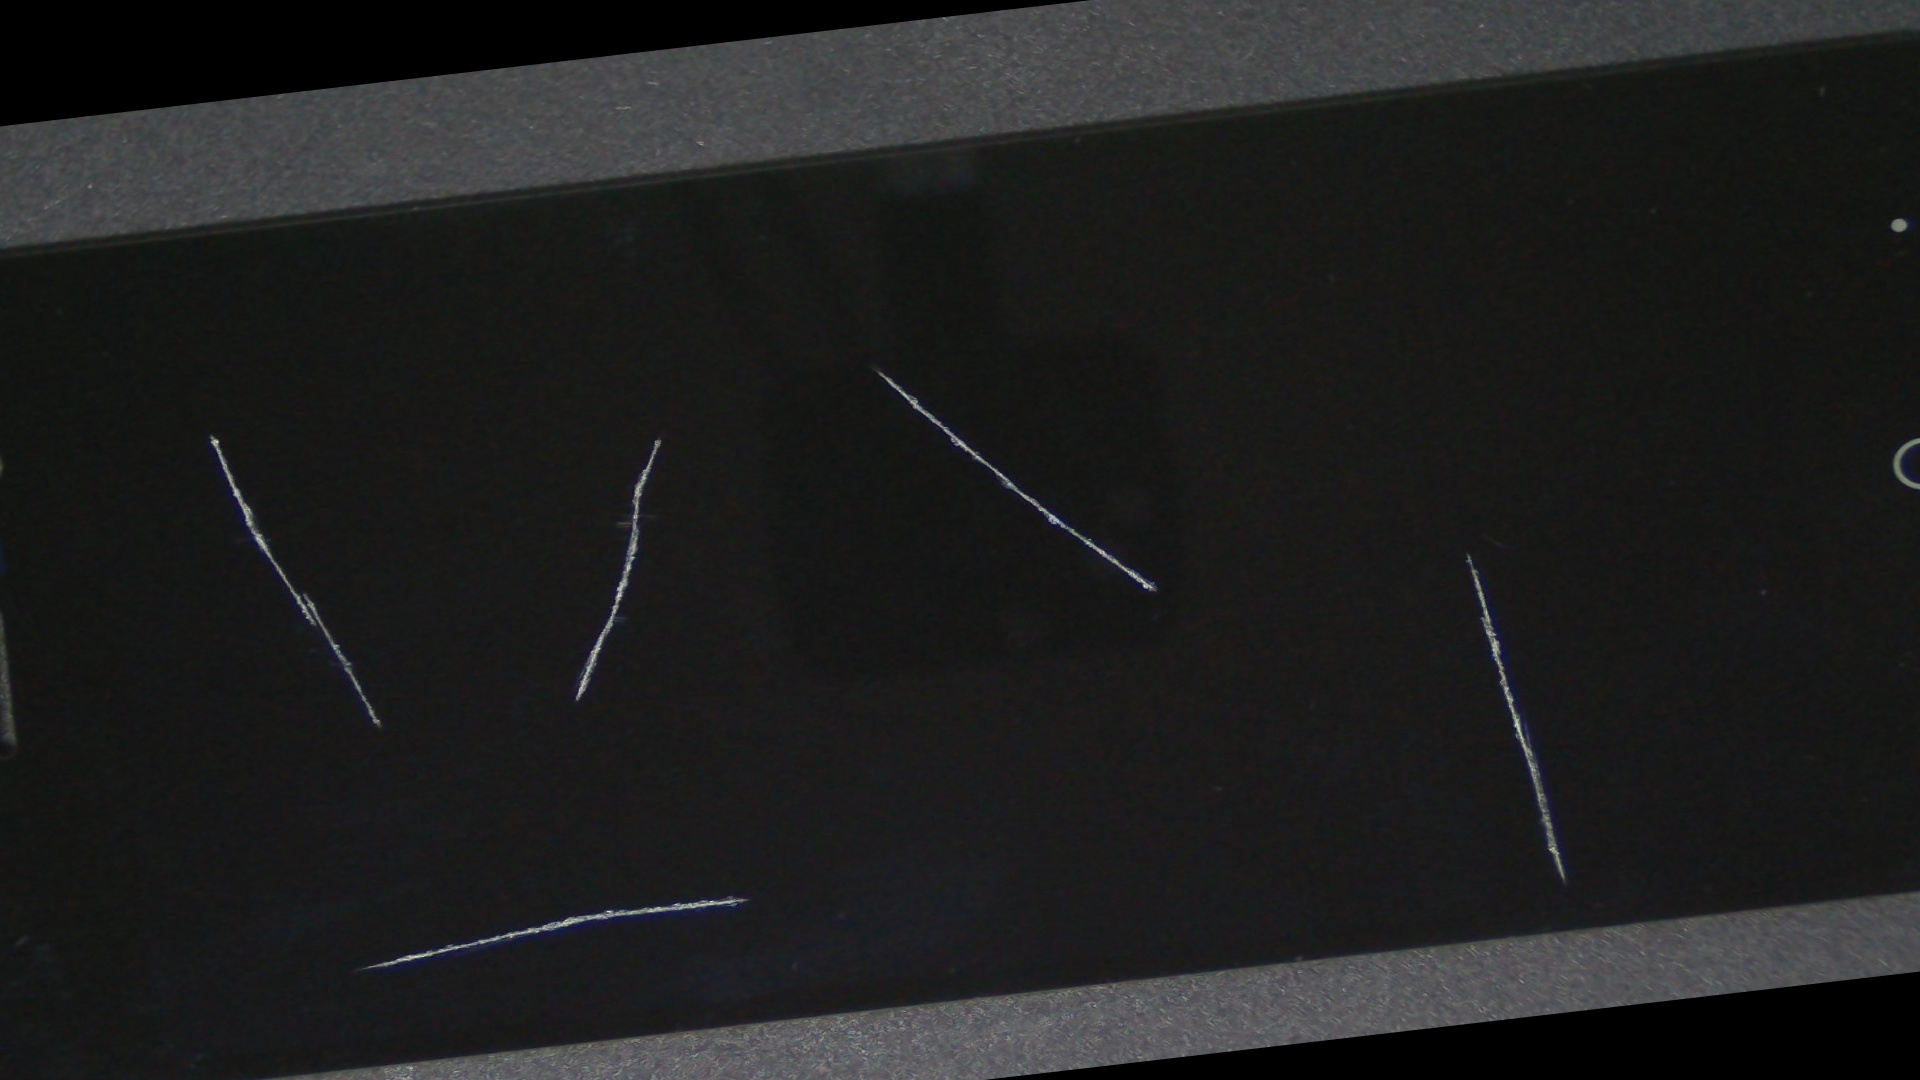oil: (618, 182, 1920, 945), (193, 443, 1007, 1080), (322, 138, 1427, 604), (212, 198, 1095, 679), (0, 245, 429, 618)
